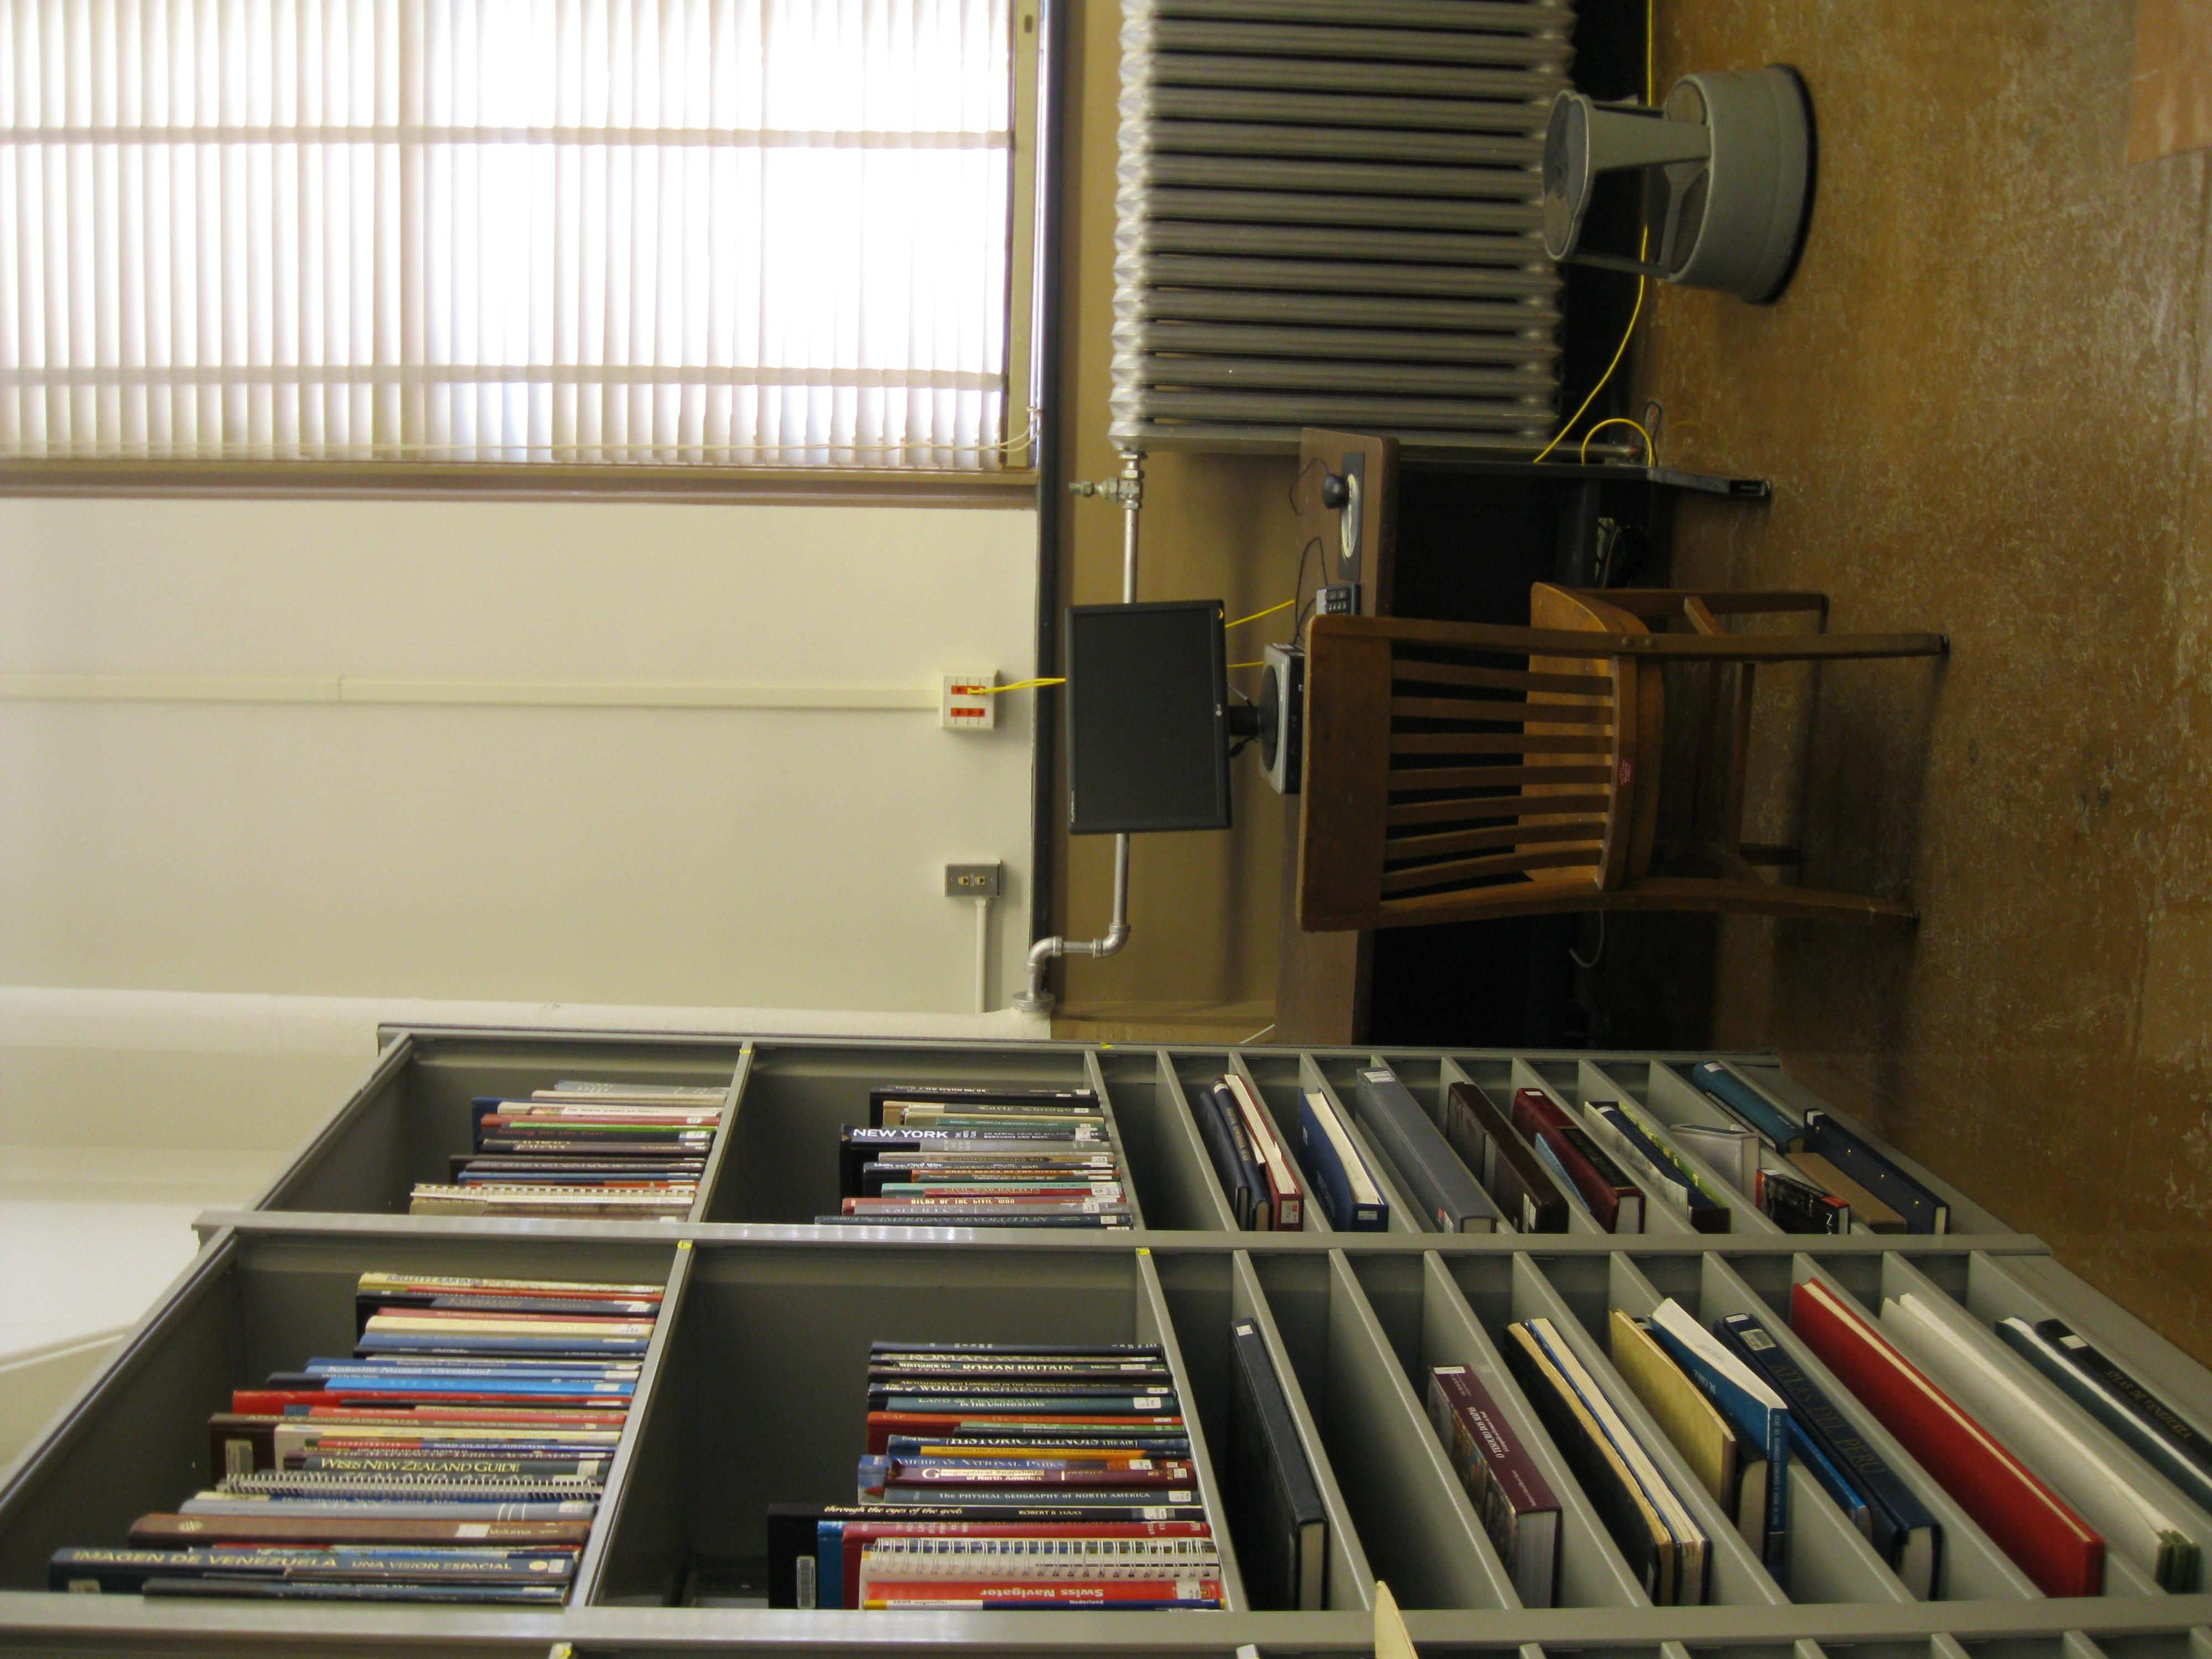AIO PC-Monitor-TV: (1097, 798, 1413, 958)
Kursi: (967, 971, 1439, 1464)
Meja: (812, 953, 1644, 1107)
Rak: (0, 3, 853, 1659)
